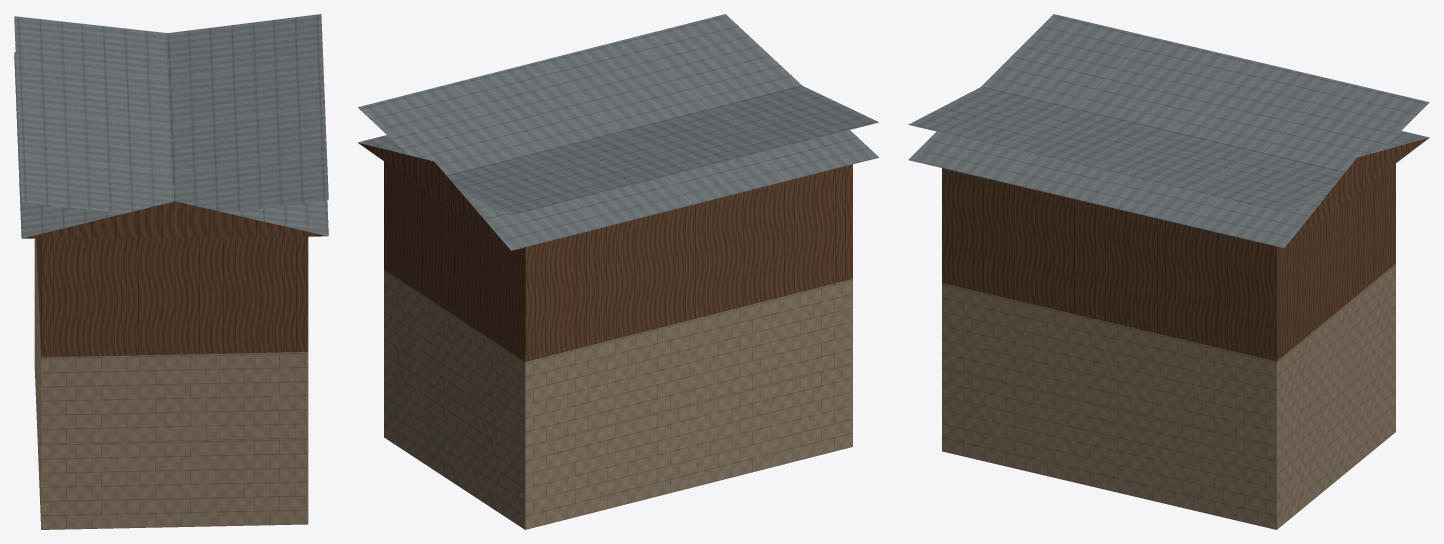
The model's file is bld_c12_19_429.gltf.
3 views of the same model, side by side, from view 1: azimuth 30°, elevation 25°; view 2: azimuth 150°, elevation 25°; view 3: azimuth 270°, elevation 25° (orthographic). The views are drawn at different scales.
Visible parts, largest first — view 1: bld_c12_19_429; view 2: bld_c12_19_429; view 3: bld_c12_19_429.
Part boxes in pixels (x1,y1,x2,y2): bld_c12_19_429: (14, 14, 328, 529); bld_c12_19_429: (358, 14, 878, 529); bld_c12_19_429: (908, 14, 1429, 529).
Size of the model in its own units: 12.11 by 9.3 by 13.41.
4 materials, 4 textured.
